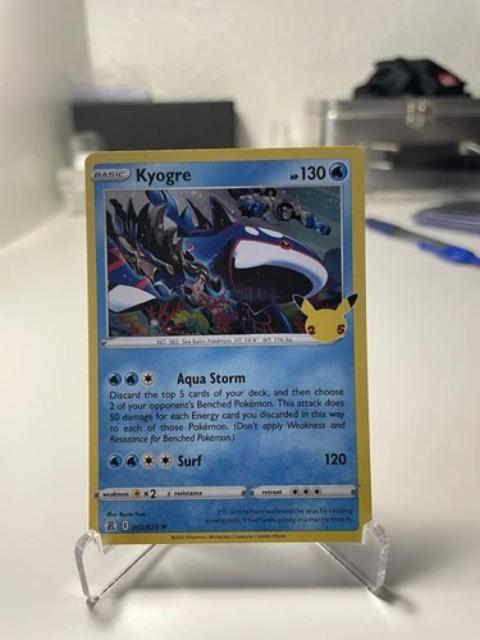Card: (79, 142, 376, 547)
Name: (132, 163, 193, 186)
